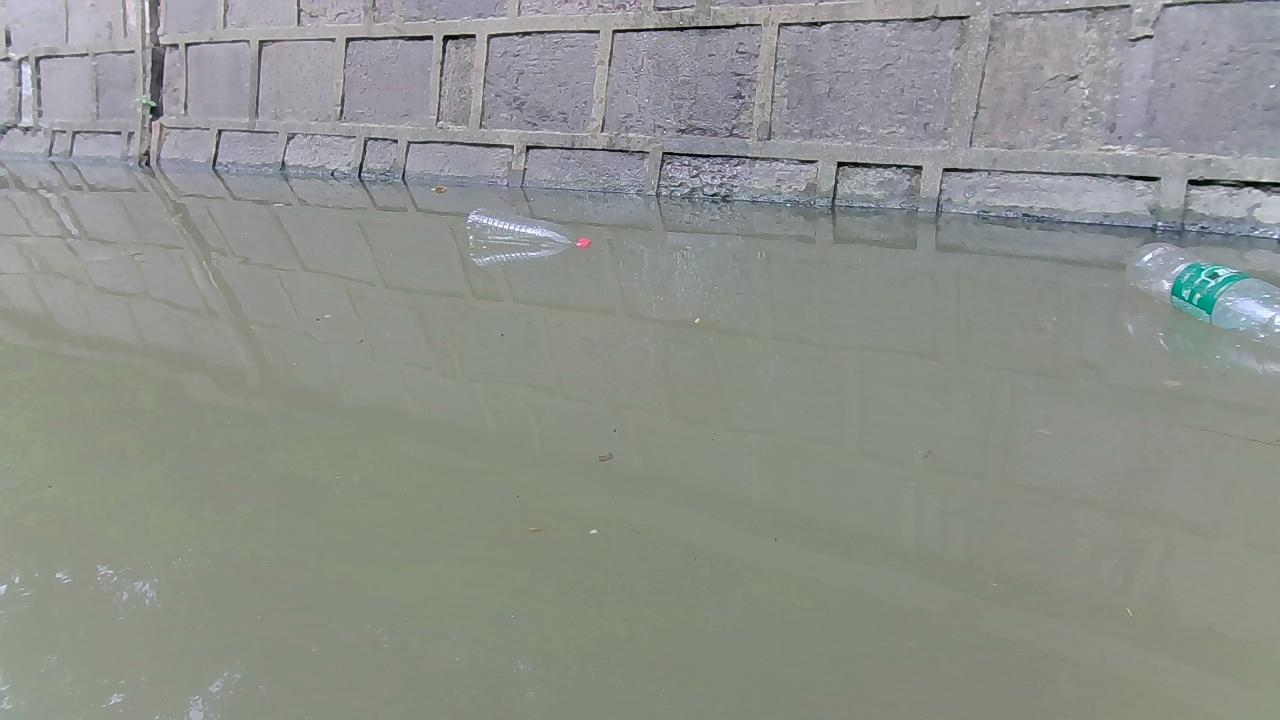bottle: (1127, 238, 1279, 338), (466, 202, 595, 253)
